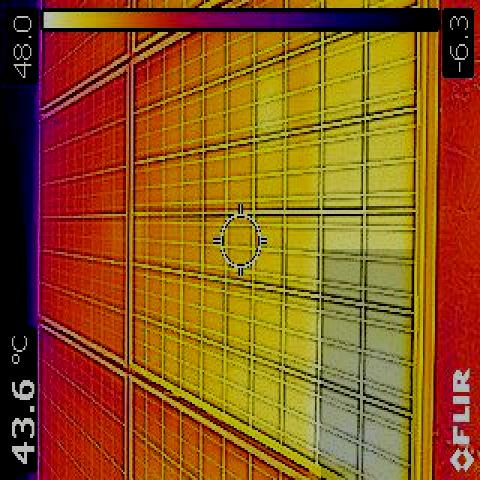fault: (321, 249, 415, 480)
